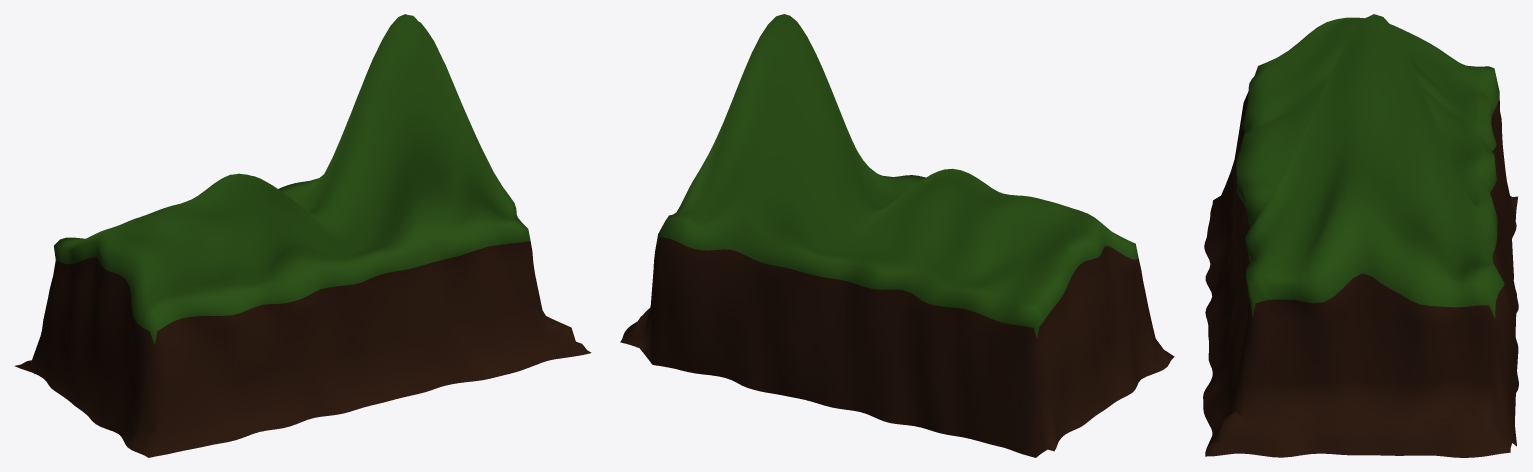
Rendered from Mountain04_Mapa08_DBZ.FBX.
3 renders of one model, left to right at view 1: azimuth 30°, elevation 25°; view 2: azimuth 150°, elevation 25°; view 3: azimuth 270°, elevation 25°, orthographic. The views are drawn at different scales.
Parts seen in each view (by area): view 1: Plane005; view 2: Plane005; view 3: Plane005.
Boxes of the visible parts, x1=… form: Plane005: x1=14, y1=14, x2=591, y2=457; Plane005: x1=620, y1=14, x2=1174, y2=457; Plane005: x1=1203, y1=14, x2=1518, y2=457.
Size of the model in its own units: 569 by 395 by 290.
